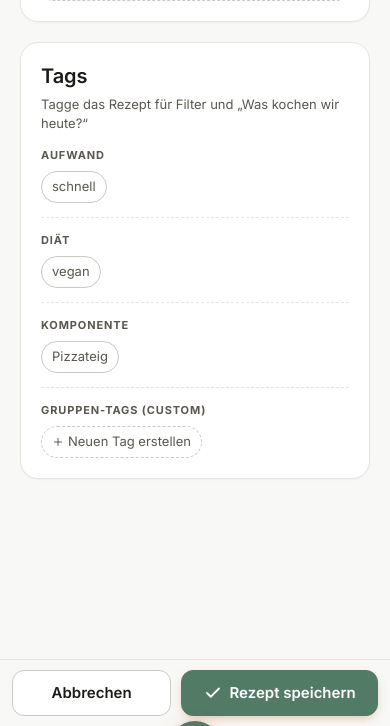
Test: RecipeFormPage (create) › requires a title before submit
(page scrolled)
Click the button "Rezept speichern". click: click(280, 693)
box: [181,670,378,716]
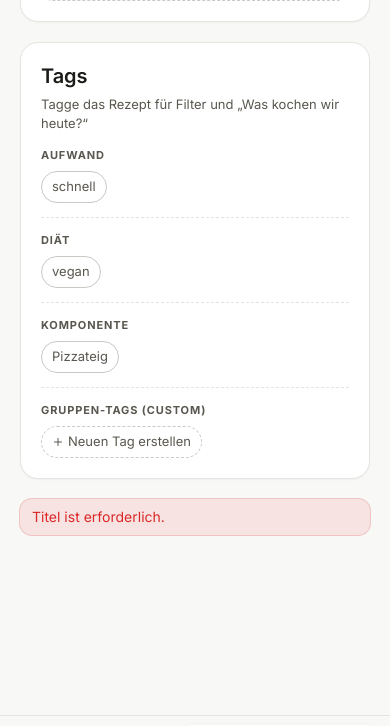
Result: the message shows "Titel" at [32,508,165,524]
